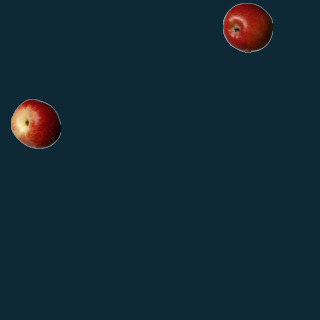Apple Braeburn: (222, 2, 272, 52)
Nectarine: (10, 98, 60, 148)
